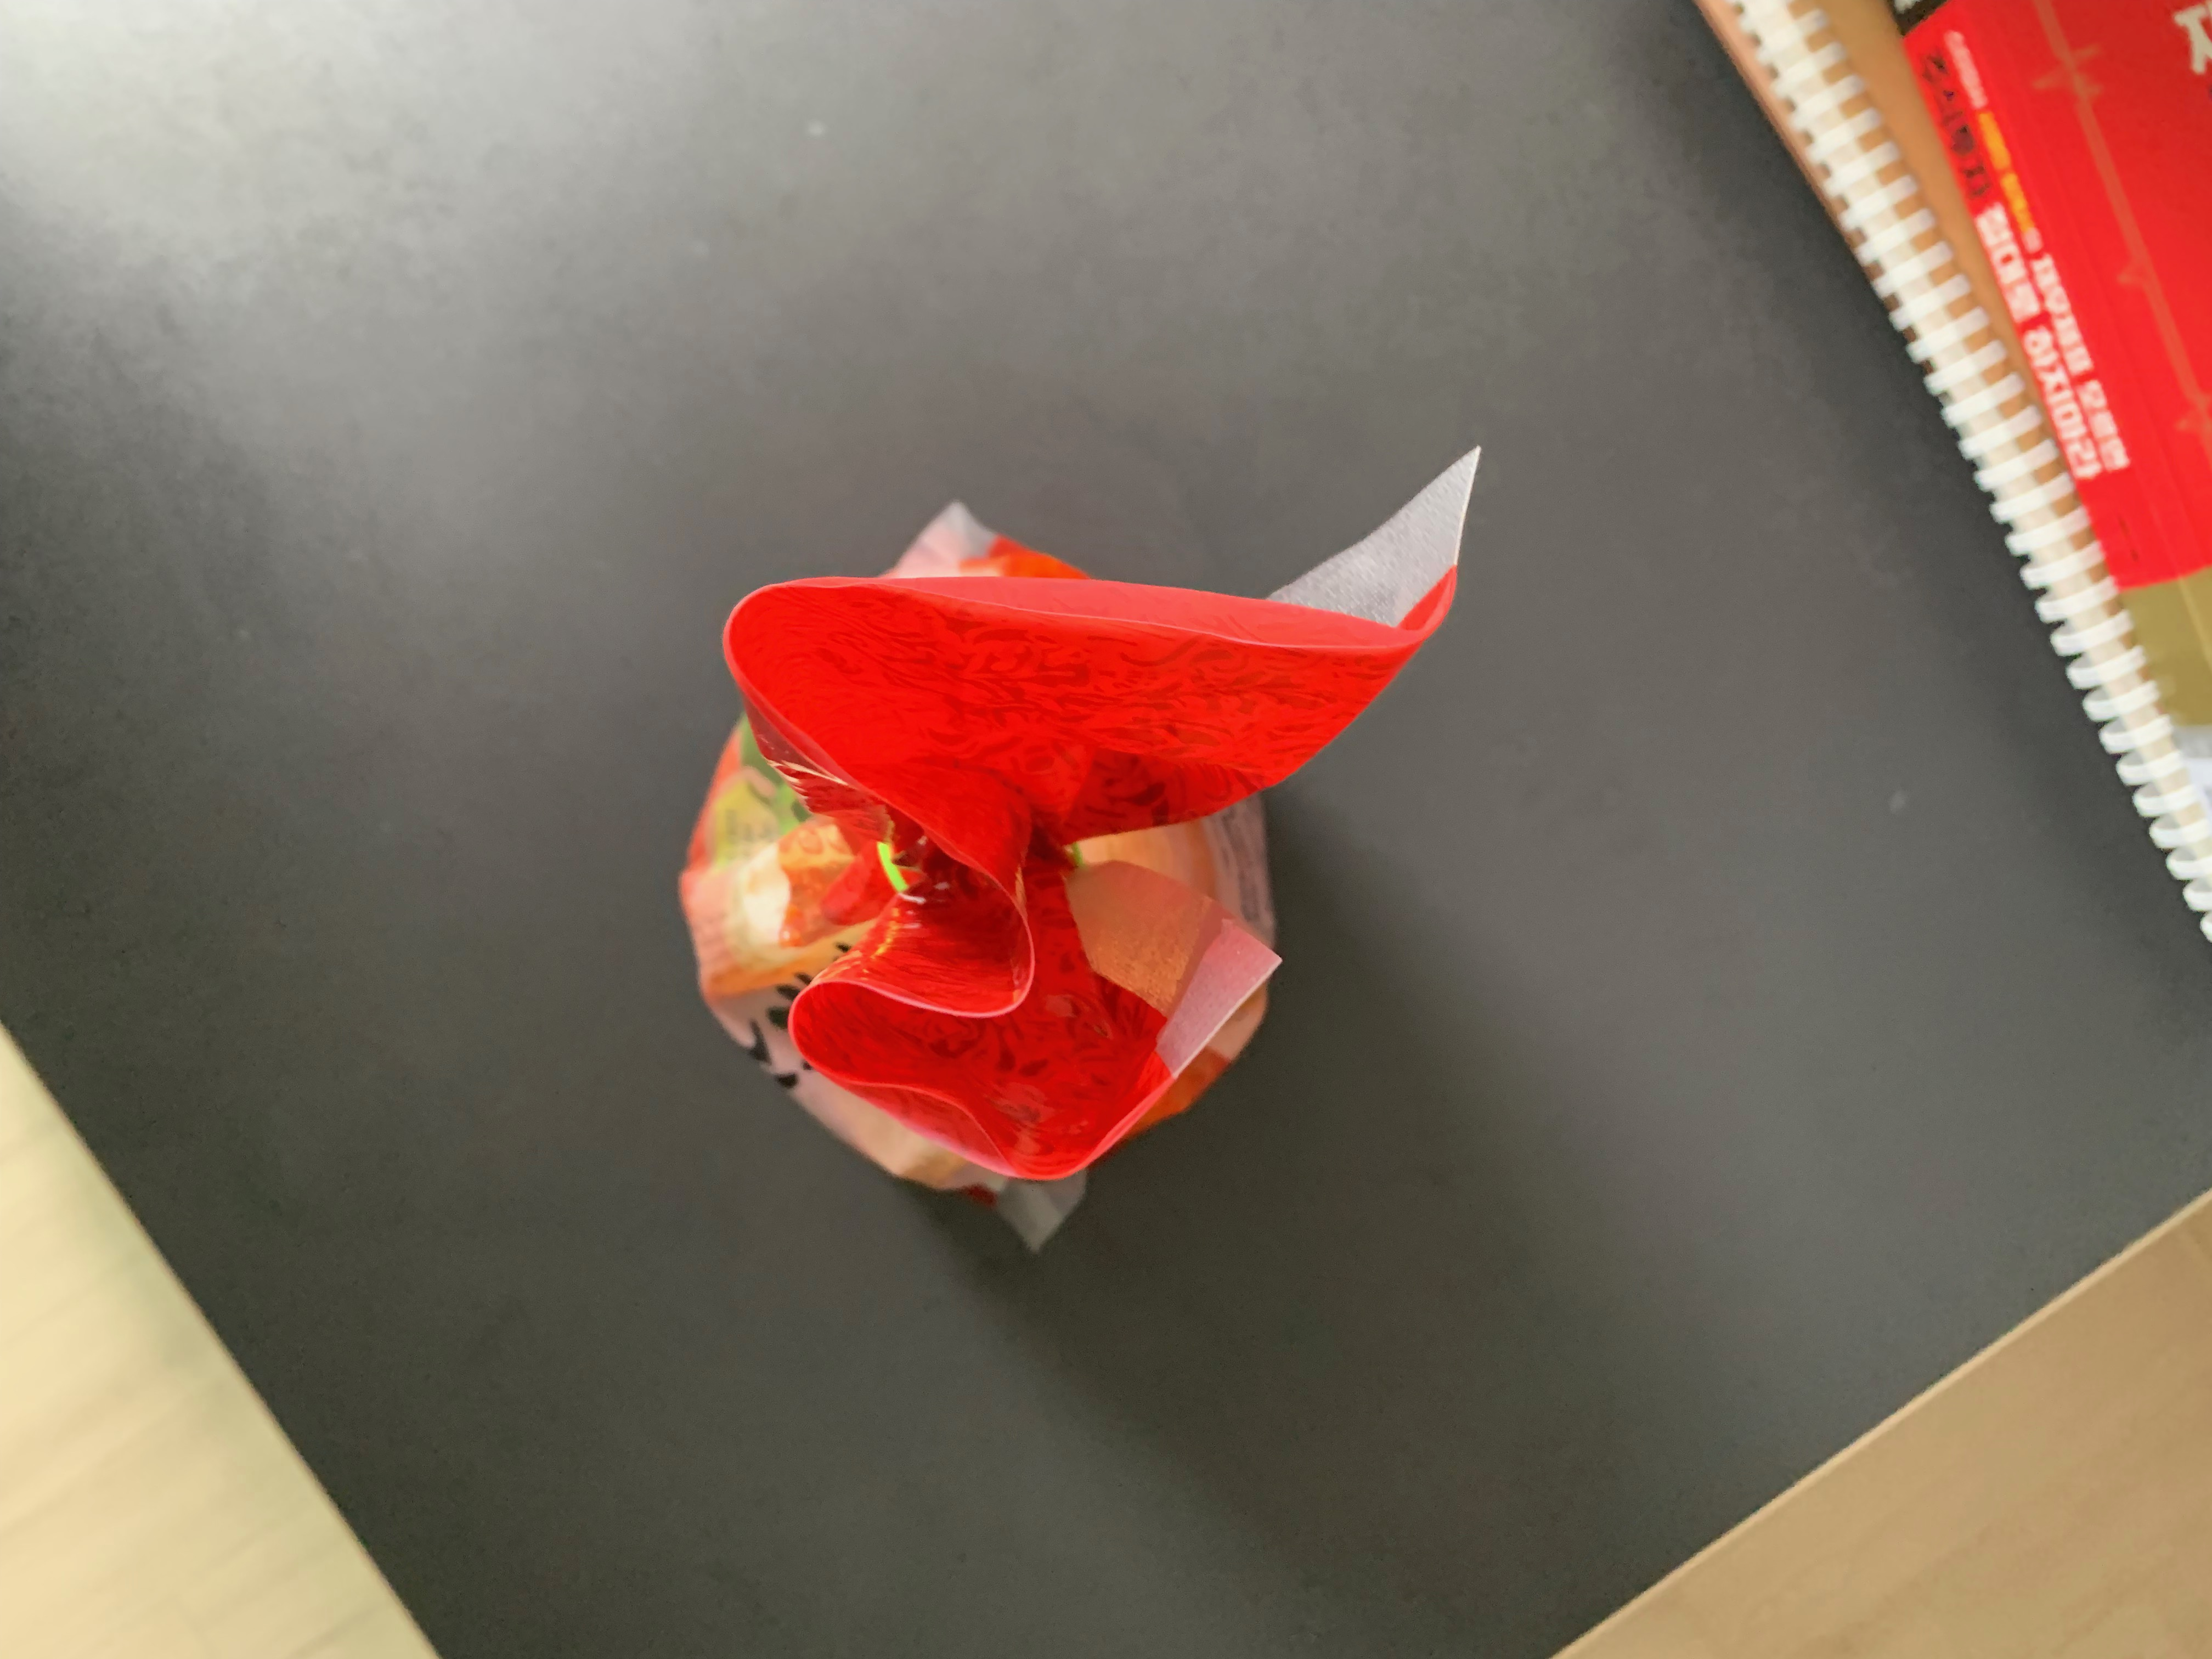kimchi: (676, 502, 1453, 1190)
